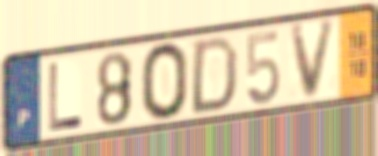5: (245, 26, 282, 108)
8: (95, 50, 135, 128)
D: (187, 33, 241, 117)
L: (47, 60, 84, 133)
O: (139, 39, 191, 123)
V: (288, 16, 340, 104)
